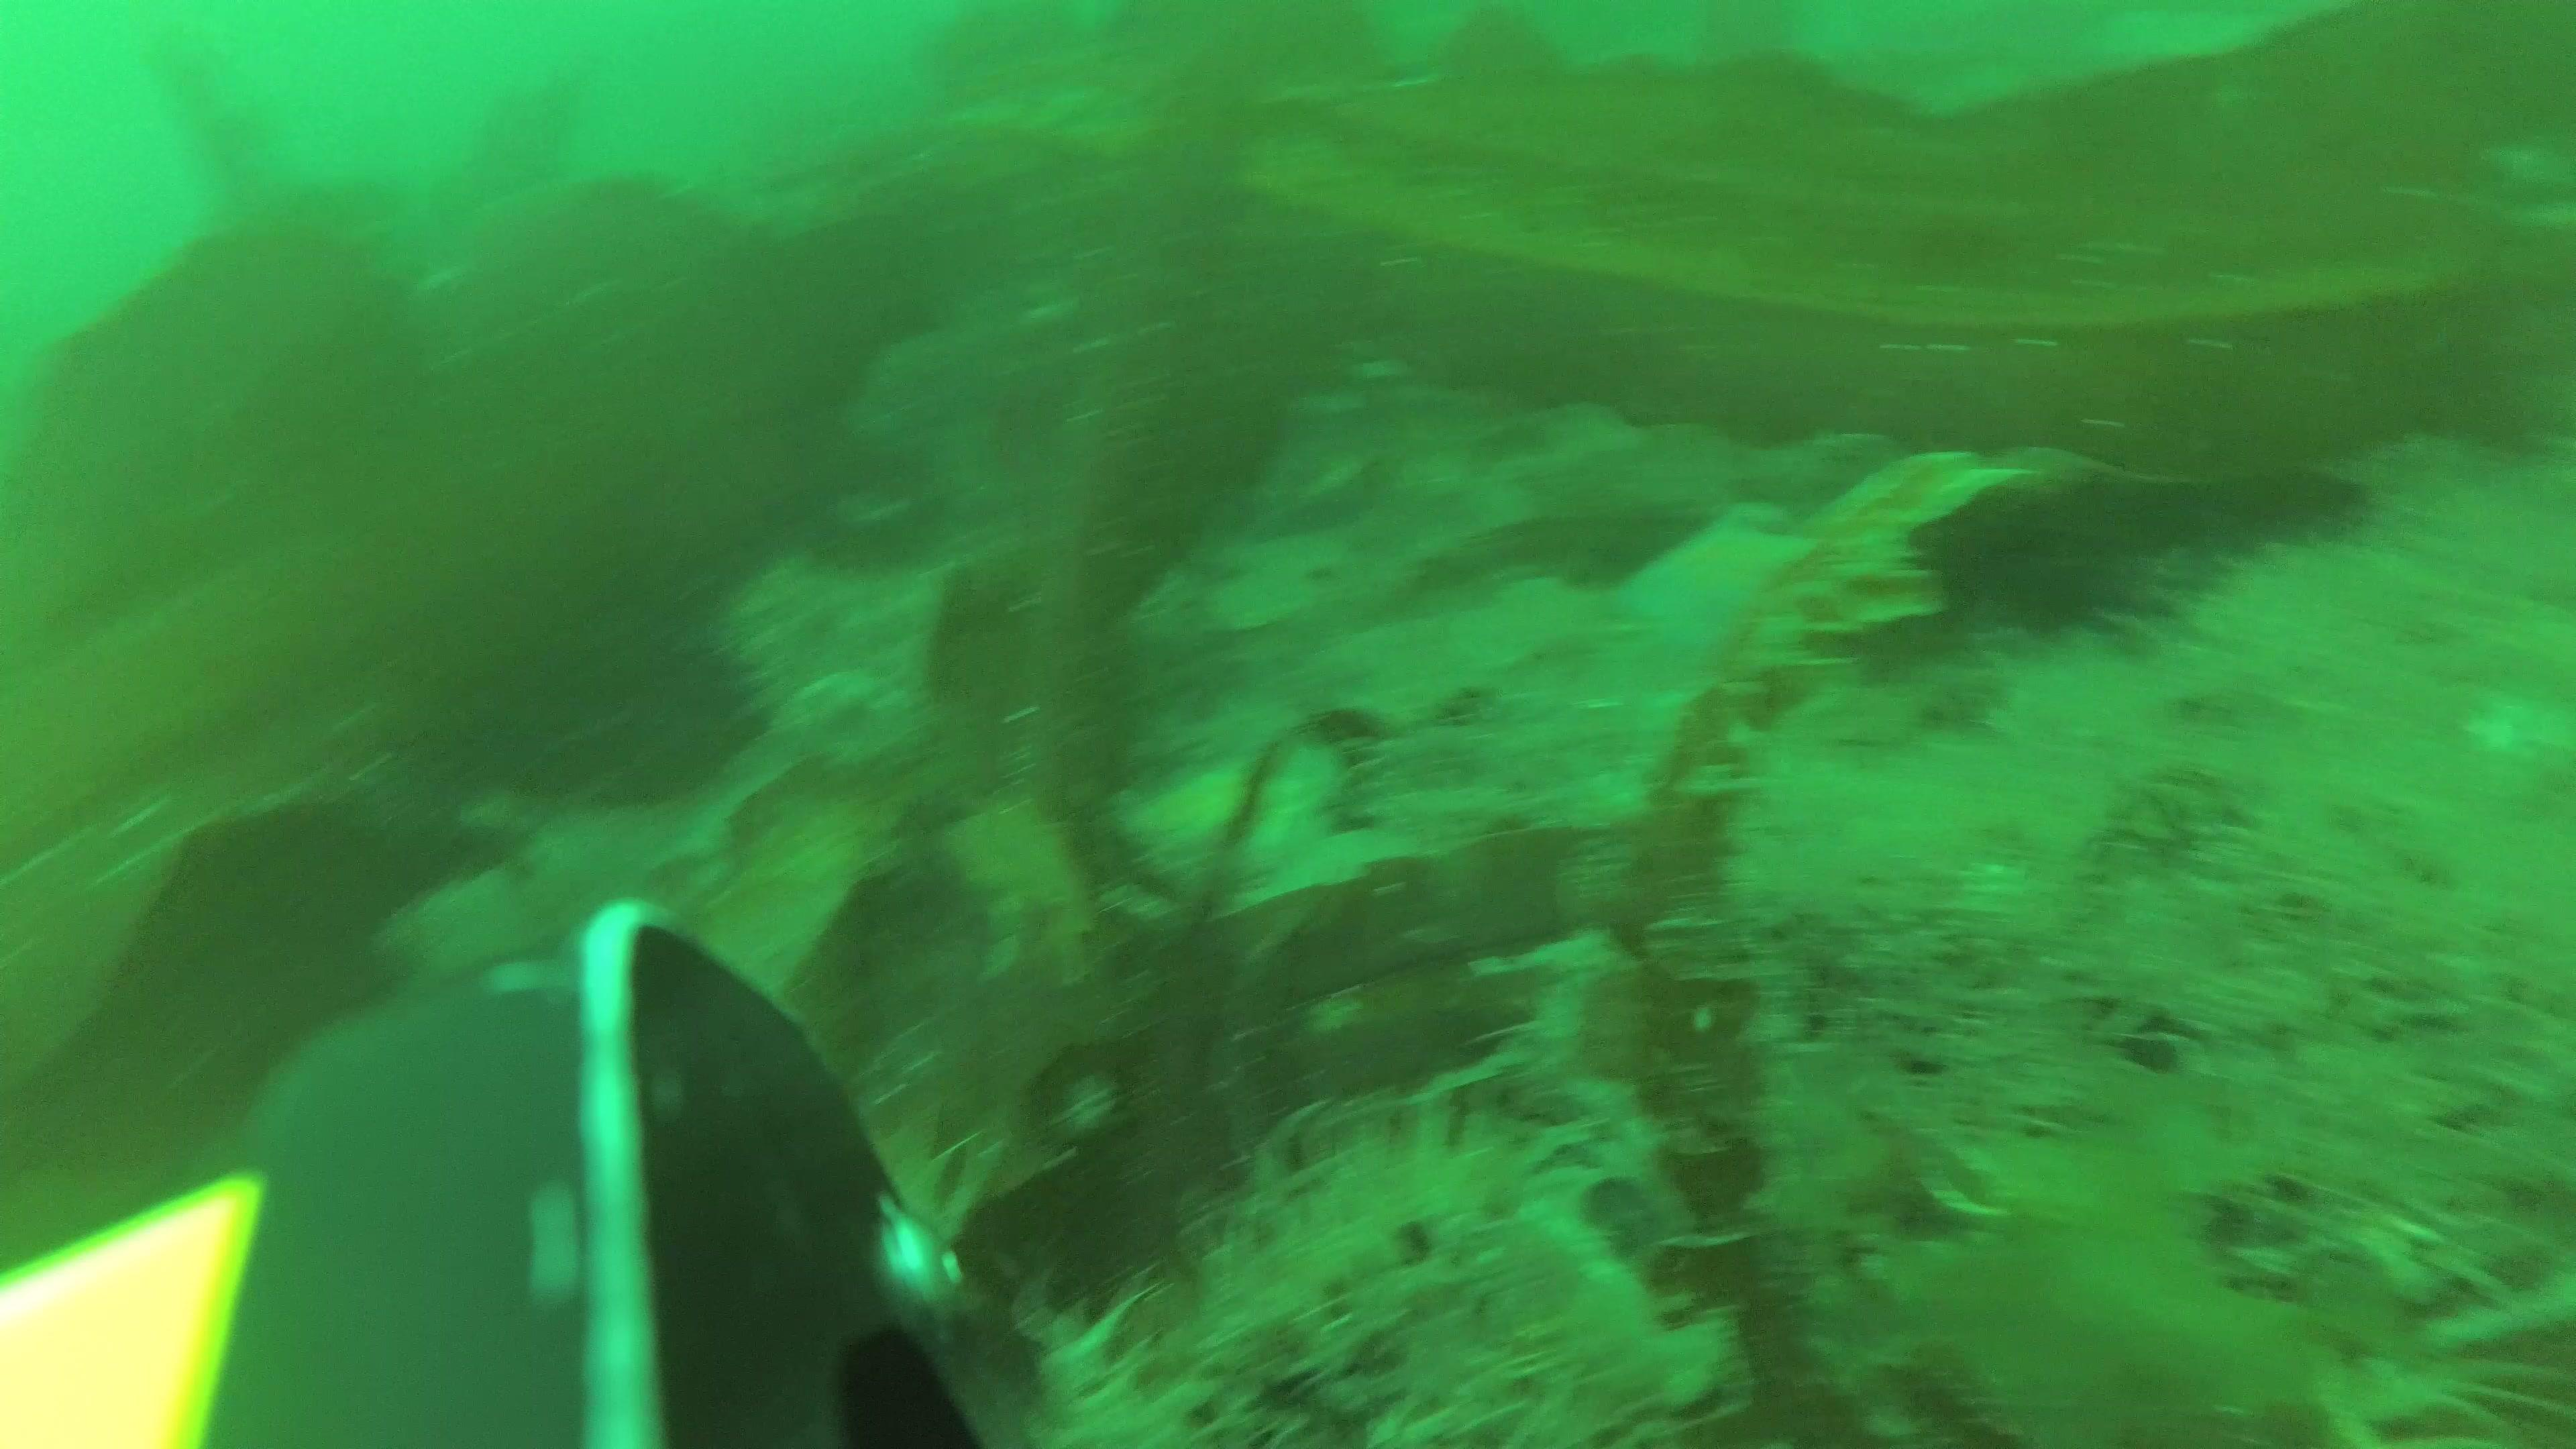starfish: (1619, 518, 1824, 653)
